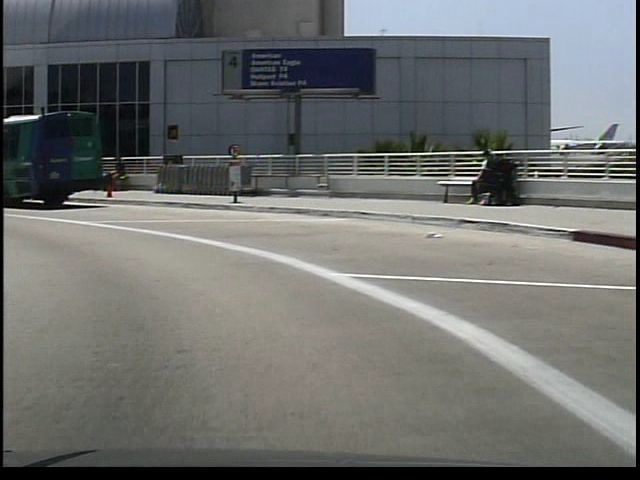person: (103, 151, 127, 196)
